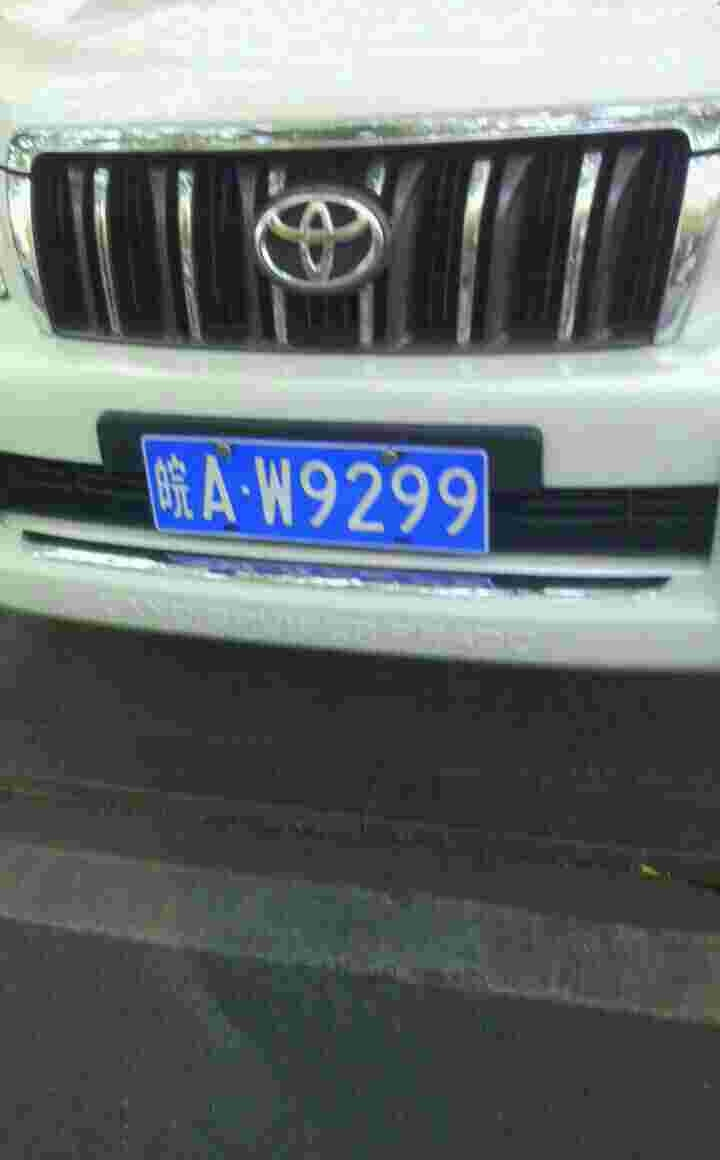license_plate: (131, 427, 479, 552)
